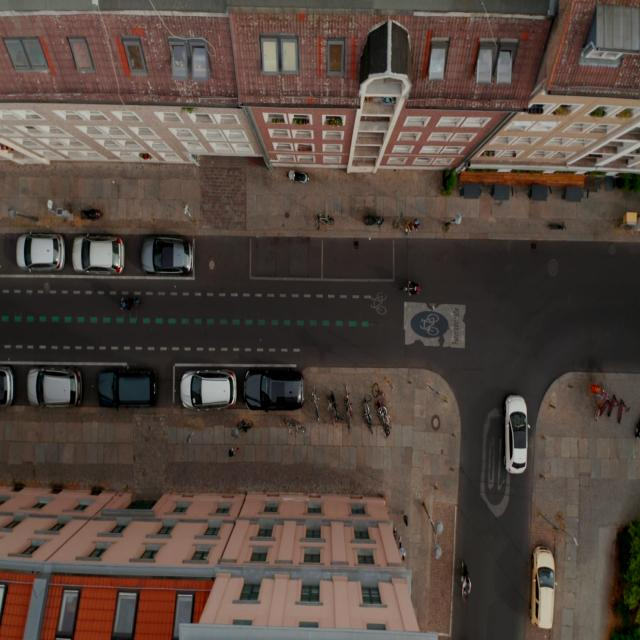Car: (242, 367, 306, 413), (96, 368, 158, 412), (180, 369, 238, 412), (530, 543, 558, 632), (26, 367, 84, 409), (502, 393, 530, 475), (73, 232, 126, 274), (140, 236, 194, 277), (16, 230, 66, 274)
Cycle: (460, 558, 472, 604), (230, 418, 254, 440), (362, 392, 373, 432), (284, 418, 306, 436), (79, 206, 103, 222), (400, 281, 422, 298), (118, 296, 141, 312), (286, 169, 310, 184), (314, 213, 335, 230), (362, 214, 384, 228)
